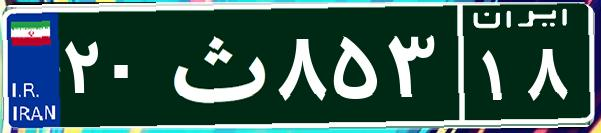0: (110, 28, 158, 105)
1: (475, 38, 525, 113)
2: (57, 26, 110, 107)
3: (385, 28, 445, 110)
5: (330, 28, 385, 110)
8: (273, 28, 330, 110), (525, 38, 570, 115)
ث: (158, 15, 273, 115)
